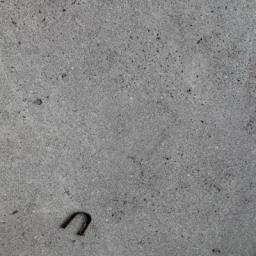FOD: (60, 209, 95, 240)
